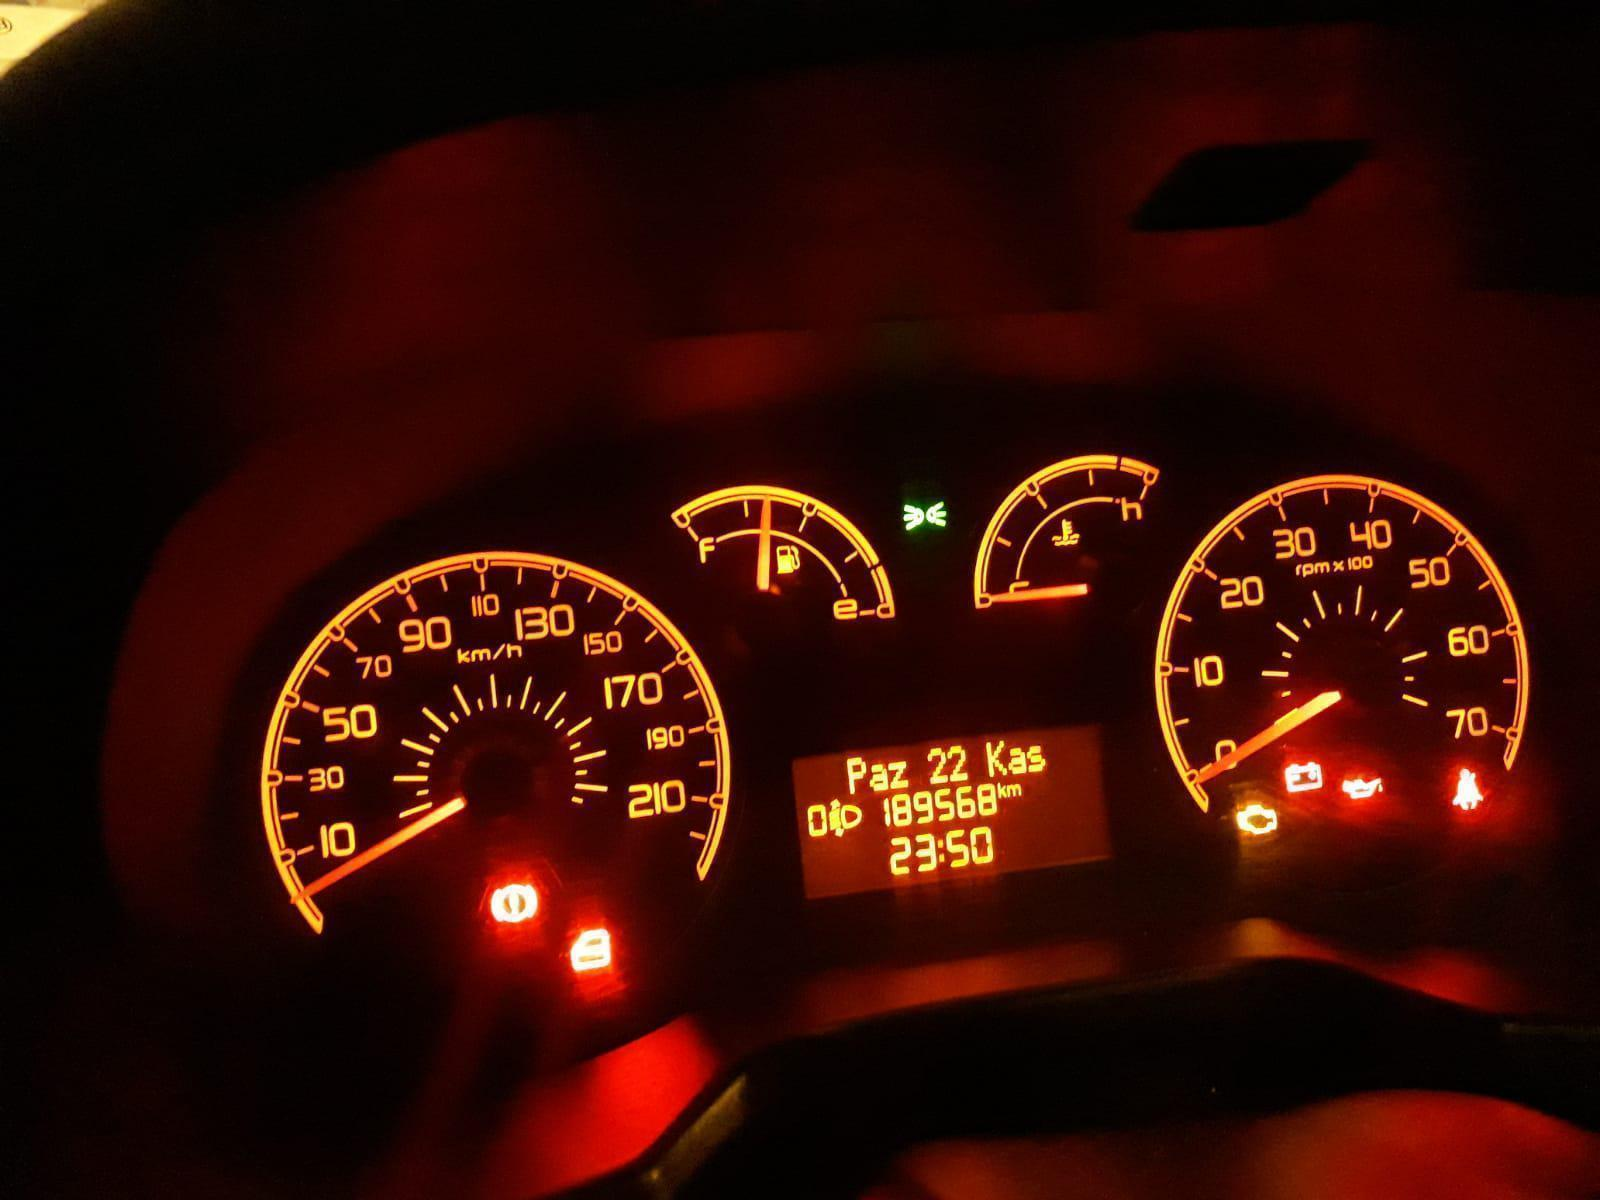0: (969, 824, 994, 865), (806, 803, 828, 837)
1: (881, 797, 891, 828)
2: (888, 836, 912, 875), (946, 744, 969, 783), (925, 746, 947, 785)
3: (913, 833, 939, 874)
5: (945, 828, 970, 868), (934, 787, 955, 821)
6: (955, 785, 976, 819)
8: (976, 782, 998, 817), (891, 793, 912, 828)
9: (912, 790, 934, 824)
X: (984, 740, 1008, 778), (845, 756, 867, 795), (887, 760, 910, 790), (1026, 744, 1047, 773), (868, 763, 889, 792), (1007, 746, 1027, 775), (1007, 783, 1023, 798), (937, 837, 946, 863), (997, 782, 1007, 798)
odometer: (787, 718, 1117, 904)
